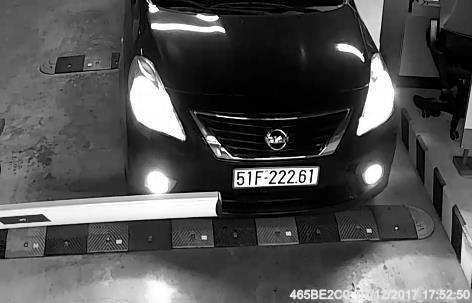License-plate: (230, 164, 324, 199)
